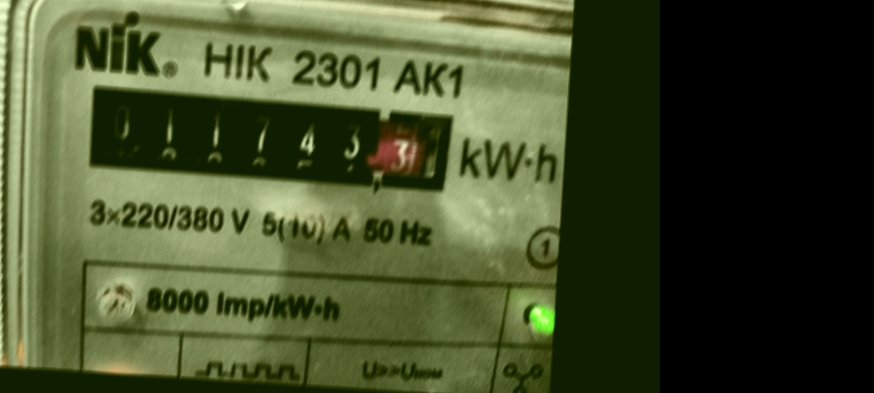0: (108, 101, 132, 142), (158, 103, 178, 146)
1: (204, 107, 223, 149)
3: (339, 119, 362, 163), (386, 135, 409, 174)
4: (294, 116, 317, 157)
7: (247, 110, 273, 156)
screen: (66, 72, 460, 203)
